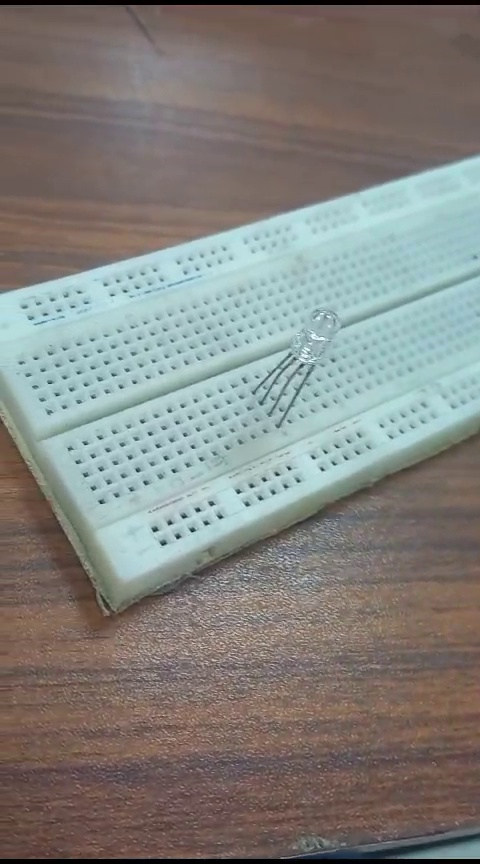LED: (270, 289, 338, 419)
